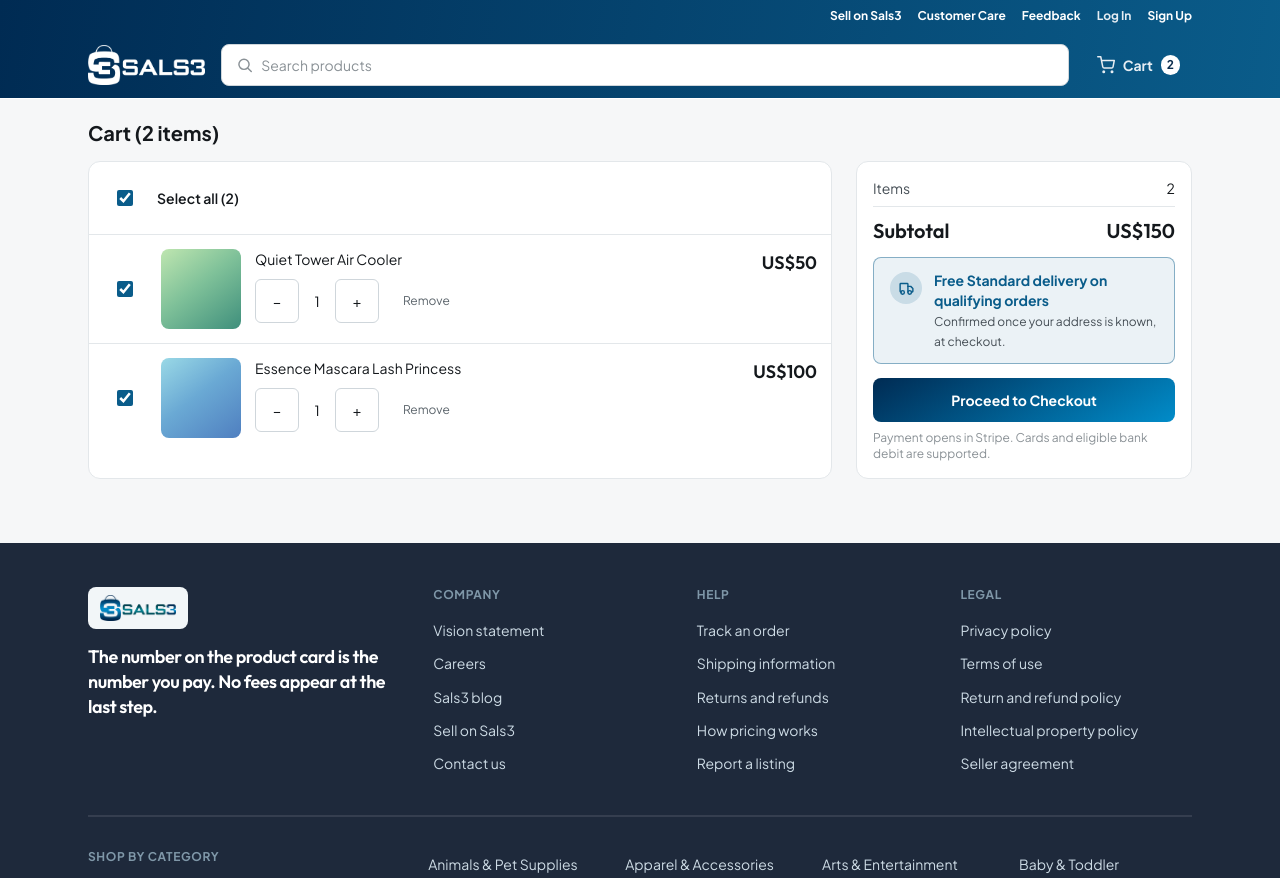
Test: Cart page › selecting which lines to check out › narrows the summary to what stays checked
Expected: the text "Essence Mascara Lash Princess" is shown, [255,359,461,377]
Click the checkbox named "select quiet tower air cooler": (125, 289) [117,281,133,297]
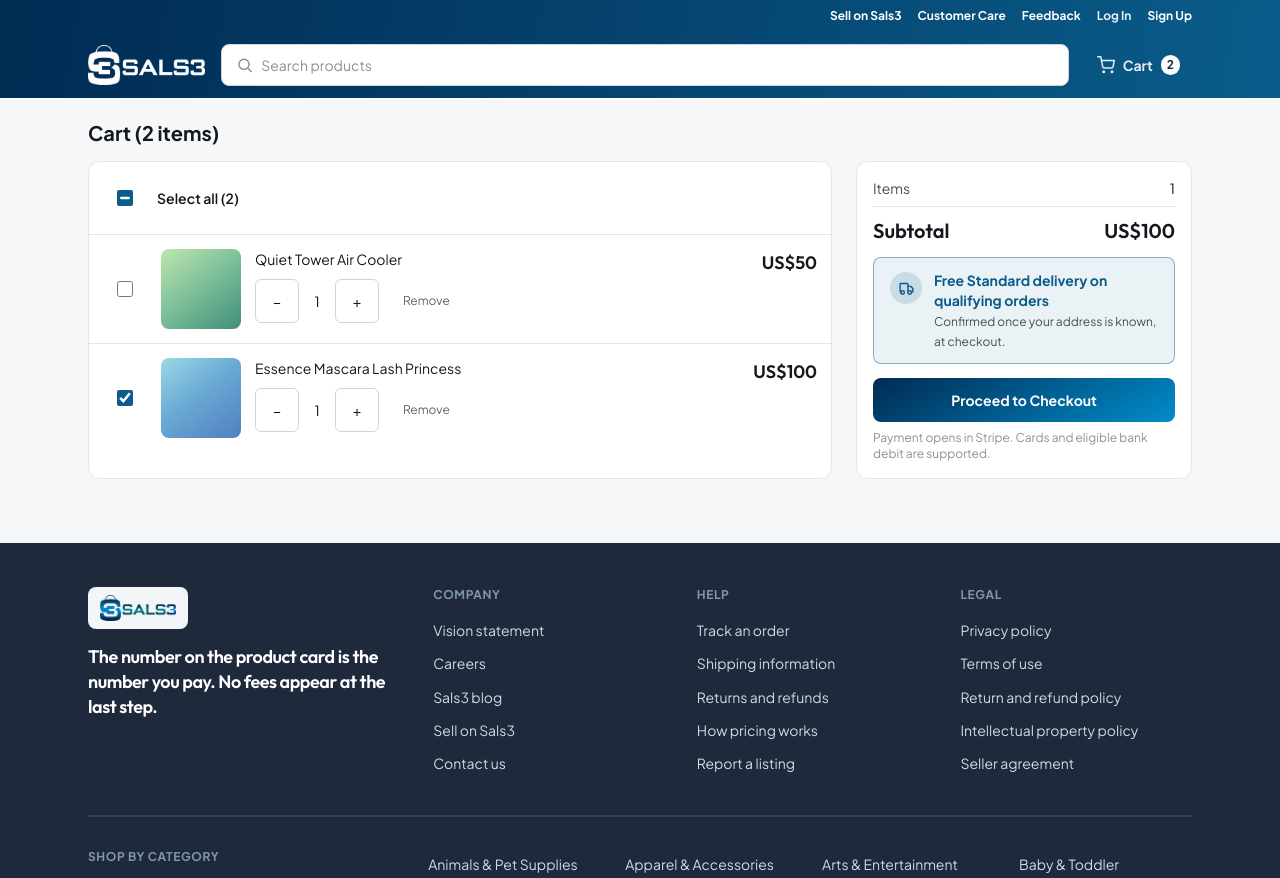
Expected: the text "US$100" is shown 2 times, [753,358,817,386]; [1104,217,1175,245]
Result: the text "US$150" is gone
